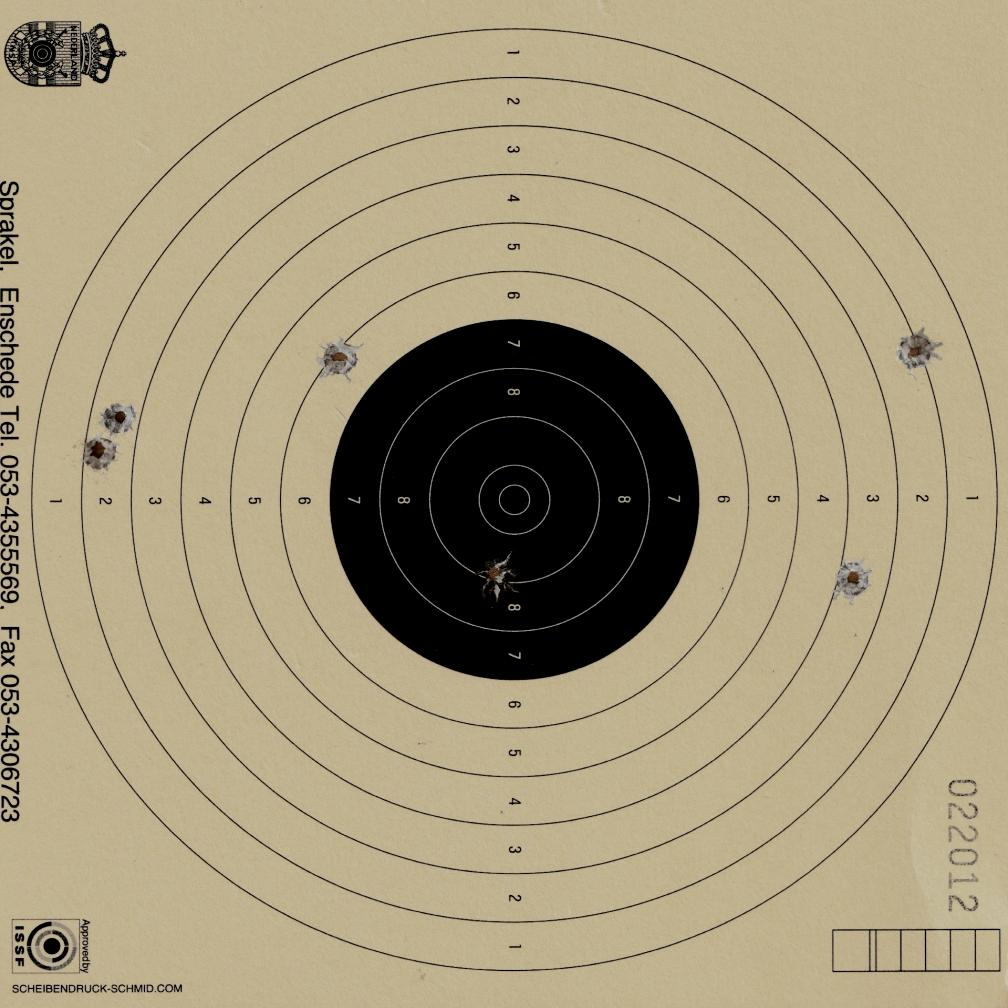2: (890, 324, 947, 379), (80, 433, 123, 472), (97, 402, 139, 437)
4: (829, 553, 879, 605)
6: (314, 330, 367, 385)
9: (467, 549, 528, 610)
Target: (28, 25, 1002, 980)
black_contour: (329, 318, 698, 681)
